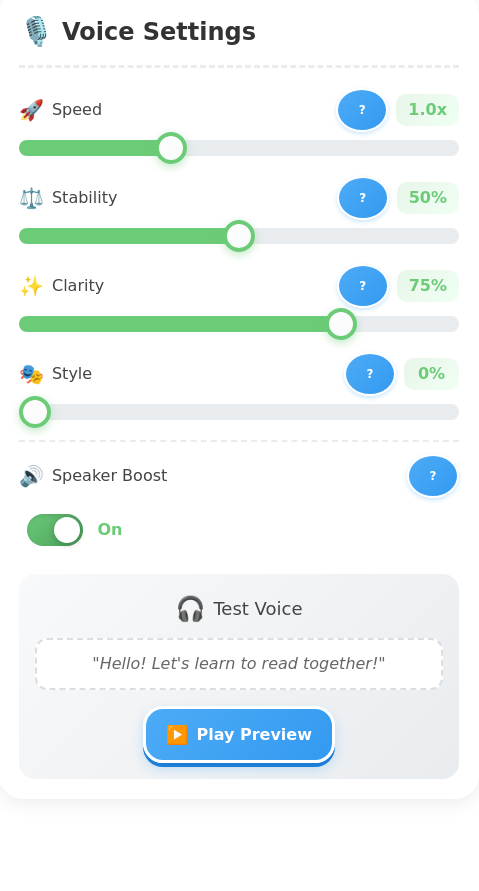
Scenario: VoiceParameterSliders › tooltips › hides tooltip when info button is clicked again
What coordinates should you click on to do the following:
click the button named "info about speed"
I would click on:
 (362, 110)
Its box is left=336, top=88, right=388, bottom=132.
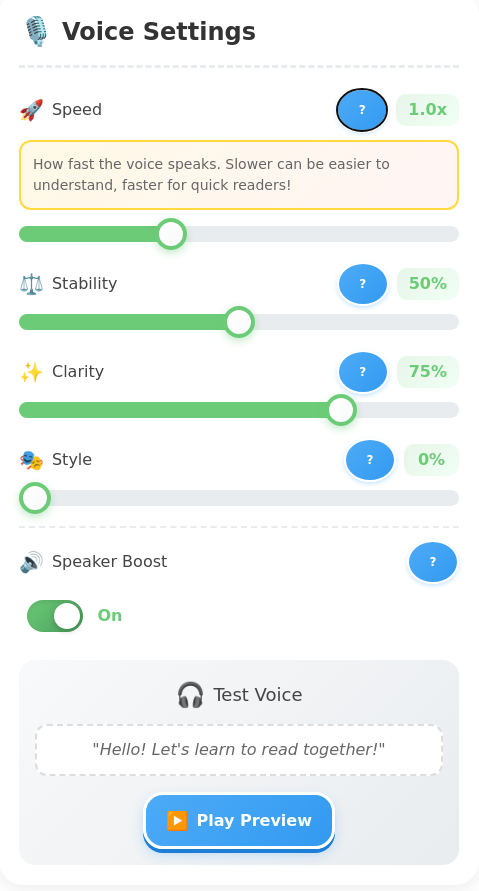
What coordinates should you click on to do the following:
click the button named "info about speed"
I would click on:
 (362, 110)
Its box is left=336, top=88, right=388, bottom=132.
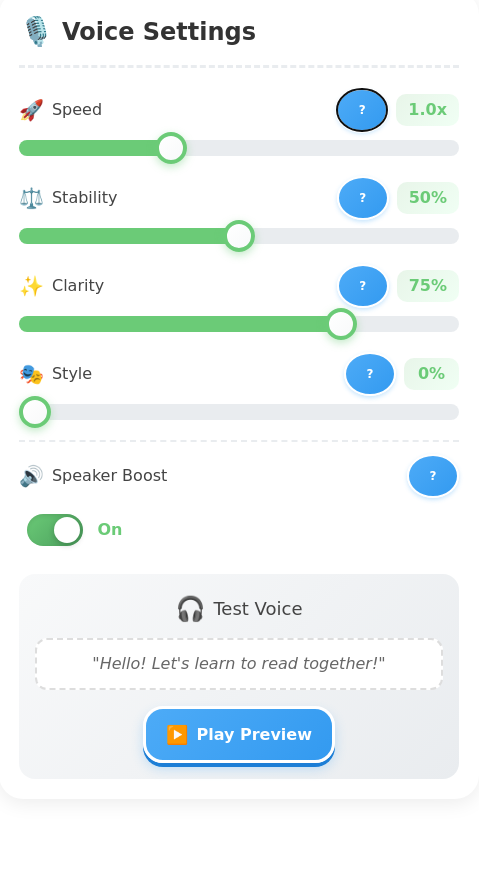
Result: the text "How fast the voice speaks" is gone
